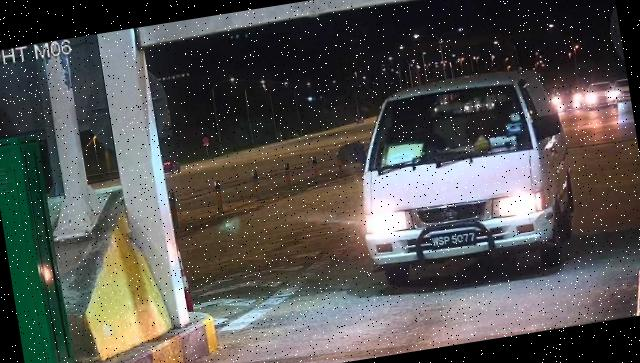License_Plate: (431, 227, 478, 254)
van: (344, 62, 587, 296)
